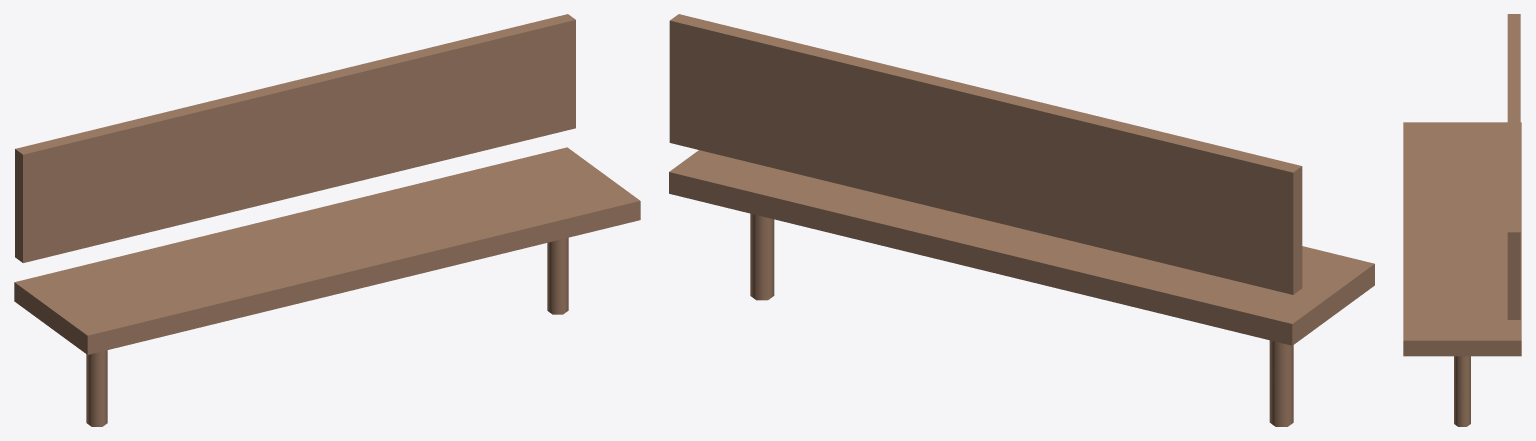
File: wooden_bench.glb
The picture shows the model from 3 angles, left to right: view 1: azimuth 30°, elevation 25°; view 2: azimuth 150°, elevation 25°; view 3: azimuth 270°, elevation 25°; orthographic projection. The views are drawn at different scales.
Parts seen in each view (by area): view 1: BackRest_Node, BenchSeat_Node, Leg_1_Node, Leg_-1_Node; view 2: BackRest_Node, BenchSeat_Node, Leg_1_Node, Leg_-1_Node; view 3: BenchSeat_Node, BackRest_Node, Leg_1_Node.
Part boxes in pixels (x1,y1,x2,y2): BackRest_Node: (15,14,575,262); BenchSeat_Node: (14,147,640,354); Leg_1_Node: (547,237,568,314); Leg_-1_Node: (86,350,107,426); BackRest_Node: (669,14,1302,294); BenchSeat_Node: (669,150,1374,345); Leg_1_Node: (750,213,774,300); Leg_-1_Node: (1269,340,1293,426); BenchSeat_Node: (1403,122,1521,356); BackRest_Node: (1507,14,1520,319); Leg_1_Node: (1454,356,1470,426).
Bounding box in the file's own units: 2.4 × 1.08 × 0.55.
